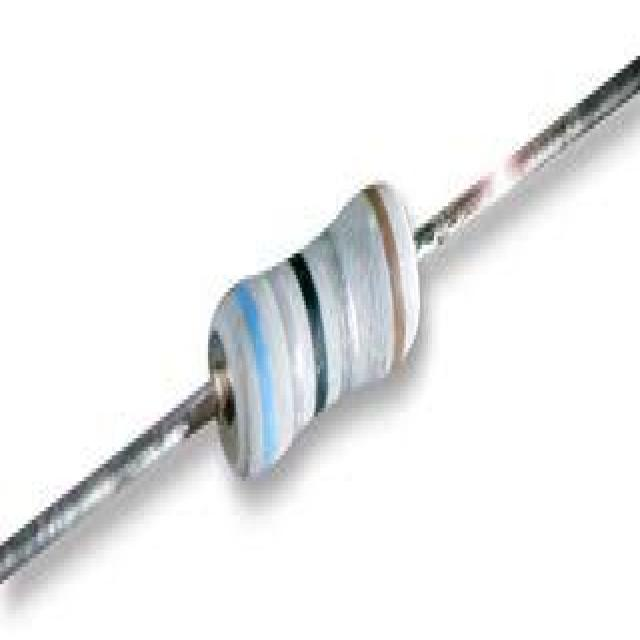Resistor: (209, 180, 420, 477)
